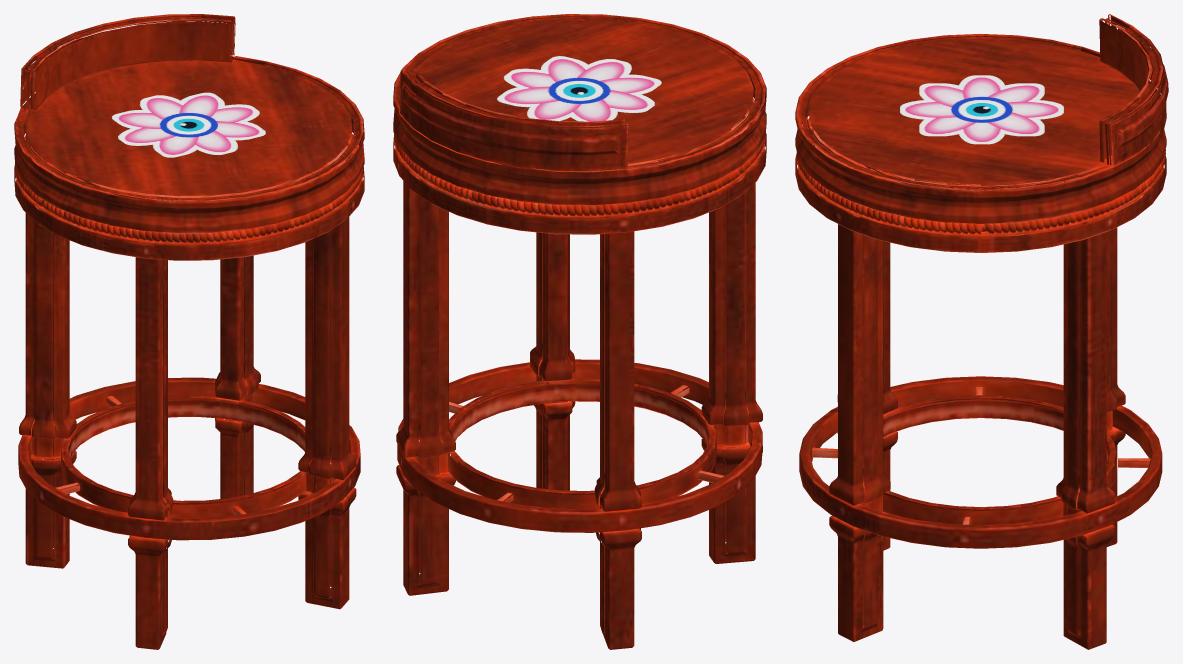
File: nyb_kramer_stool.glb
3 views of the same model, side by side, from view 1: azimuth 30°, elevation 25°; view 2: azimuth 150°, elevation 25°; view 3: azimuth 270°, elevation 25° (orthographic). The views are drawn at different scales.
Parts seen in each view (by area): view 1: bar_chair_round_01, stk_eyeflower_die.png; view 2: bar_chair_round_01, stk_eyeflower_die.png; view 3: bar_chair_round_01, stk_eyeflower_die.png.
Boxes of the visible parts, x1,y1,x2,y2 form: bar_chair_round_01: (14,14,364,649); stk_eyeflower_die.png: (112,92,265,157); bar_chair_round_01: (393,14,766,649); stk_eyeflower_die.png: (497,56,661,121); bar_chair_round_01: (795,14,1168,649); stk_eyeflower_die.png: (900,75,1063,144).
Bounding box in the file's own units: 0.4831 × 0.7505 × 0.486.
2 materials, 2 textured.
